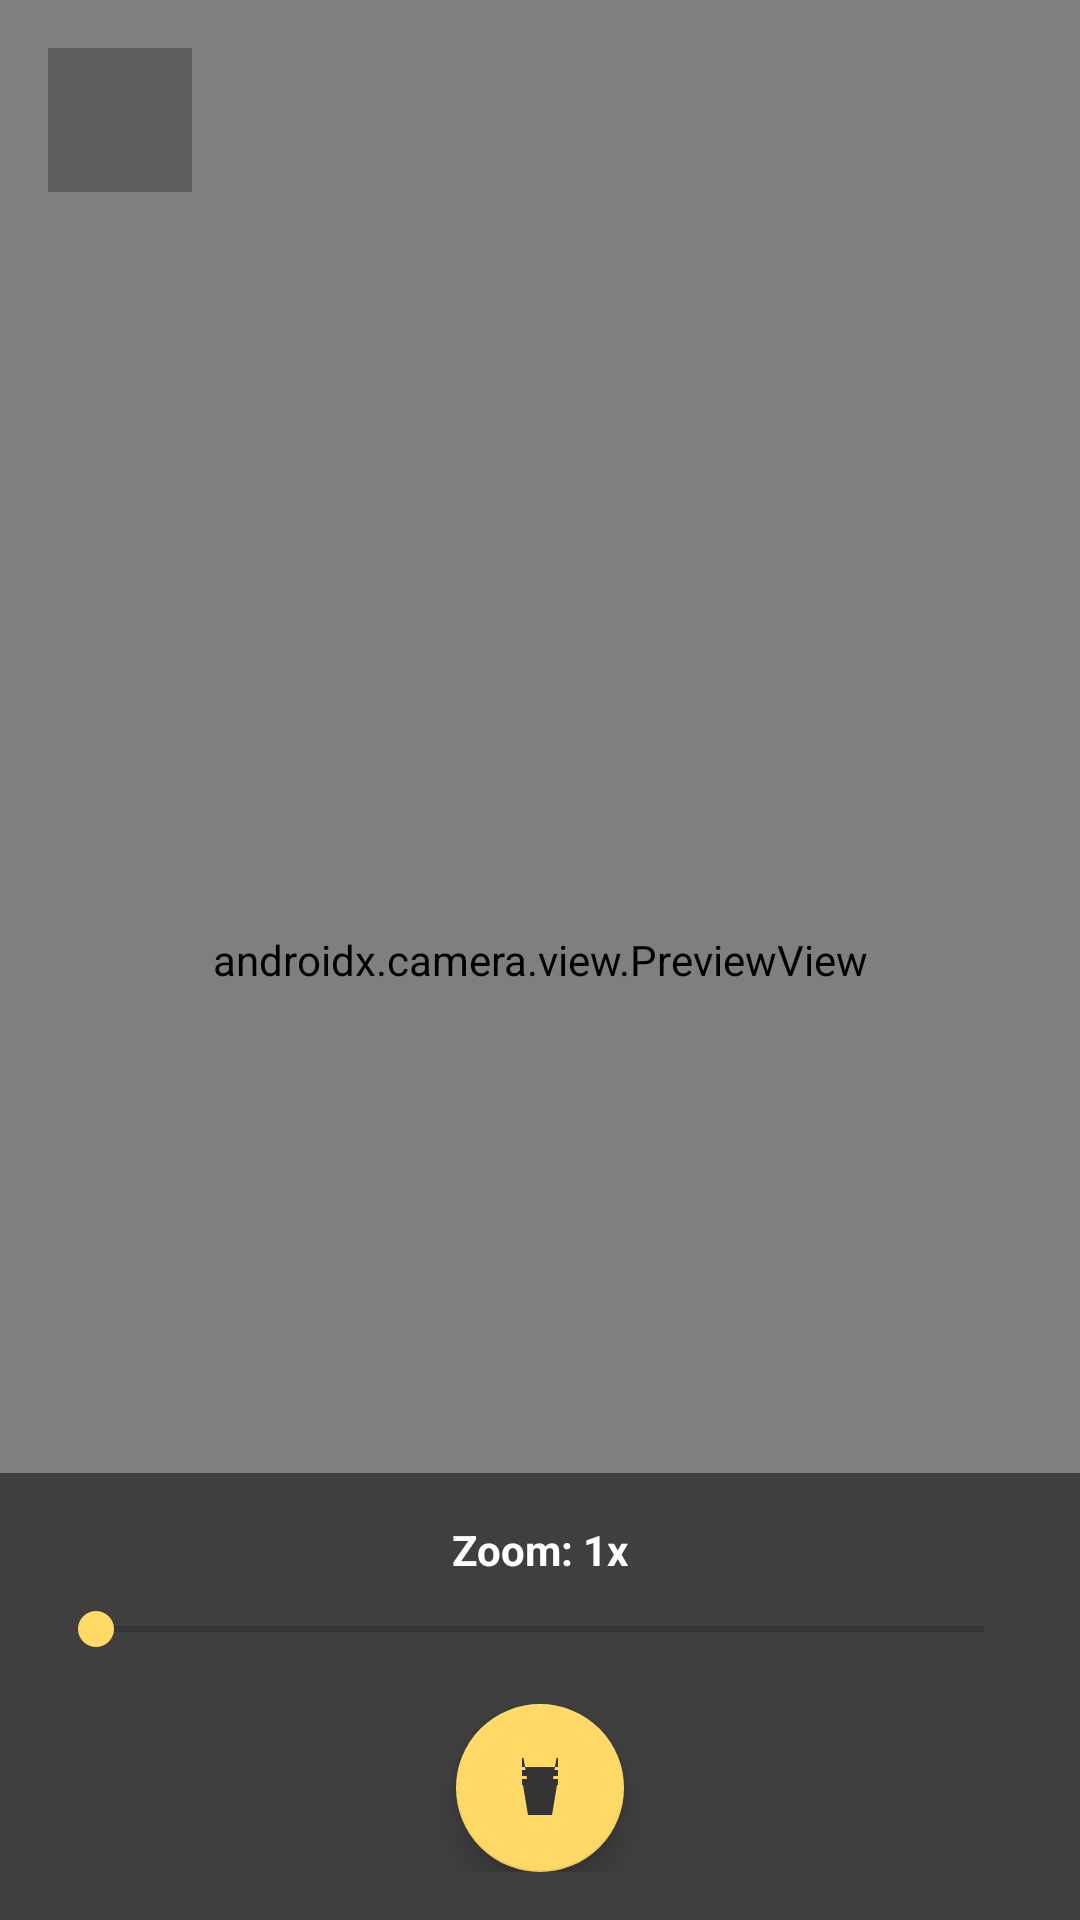

Locate icon controls on the screen. Image size 1080px×1920px, boxes as (x1, y1, x2, y2).
flashlight: (456, 1704, 624, 1872)
